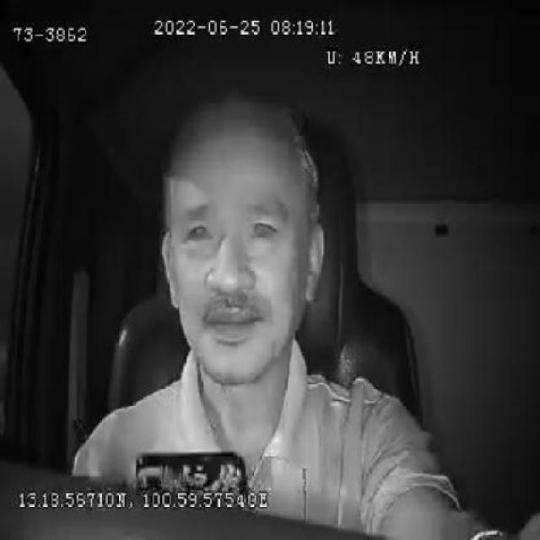phone: (134, 446, 249, 491)
